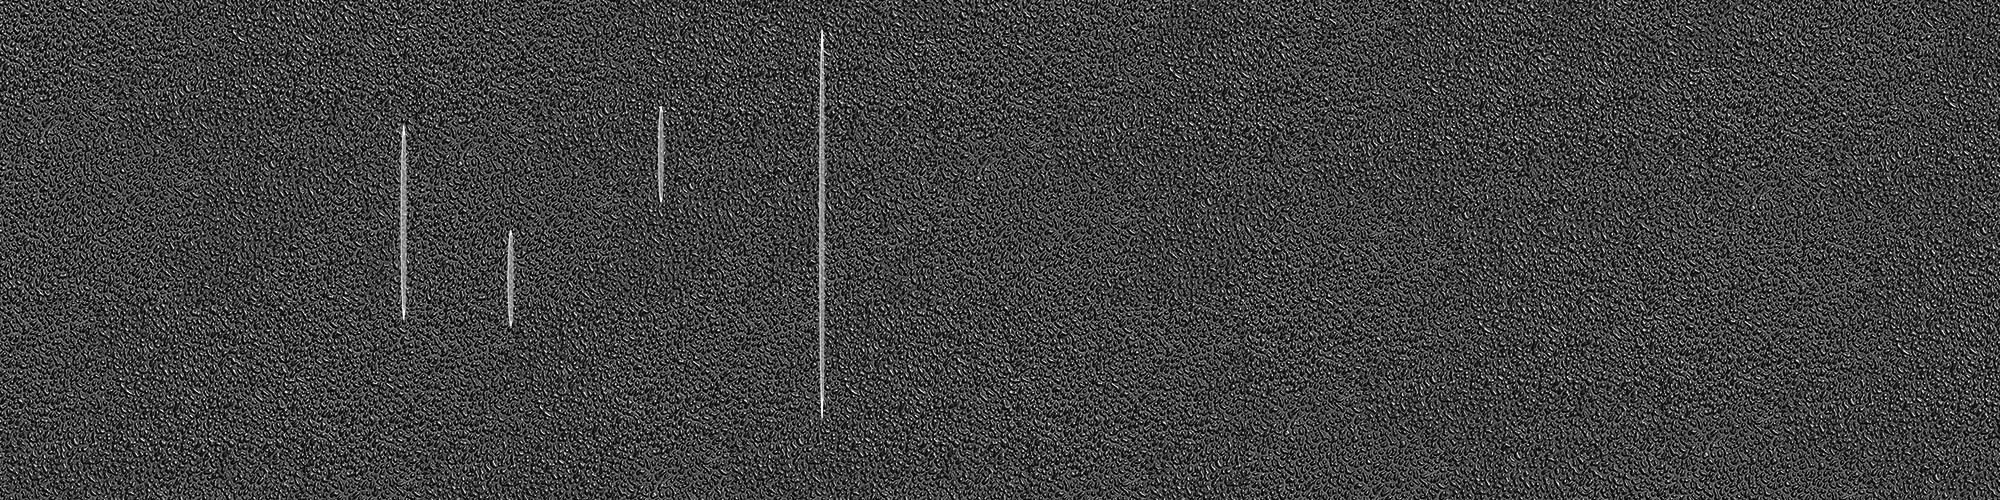Streaks: (795, 24, 848, 427), (386, 117, 417, 335), (485, 227, 526, 337), (642, 97, 679, 210)
